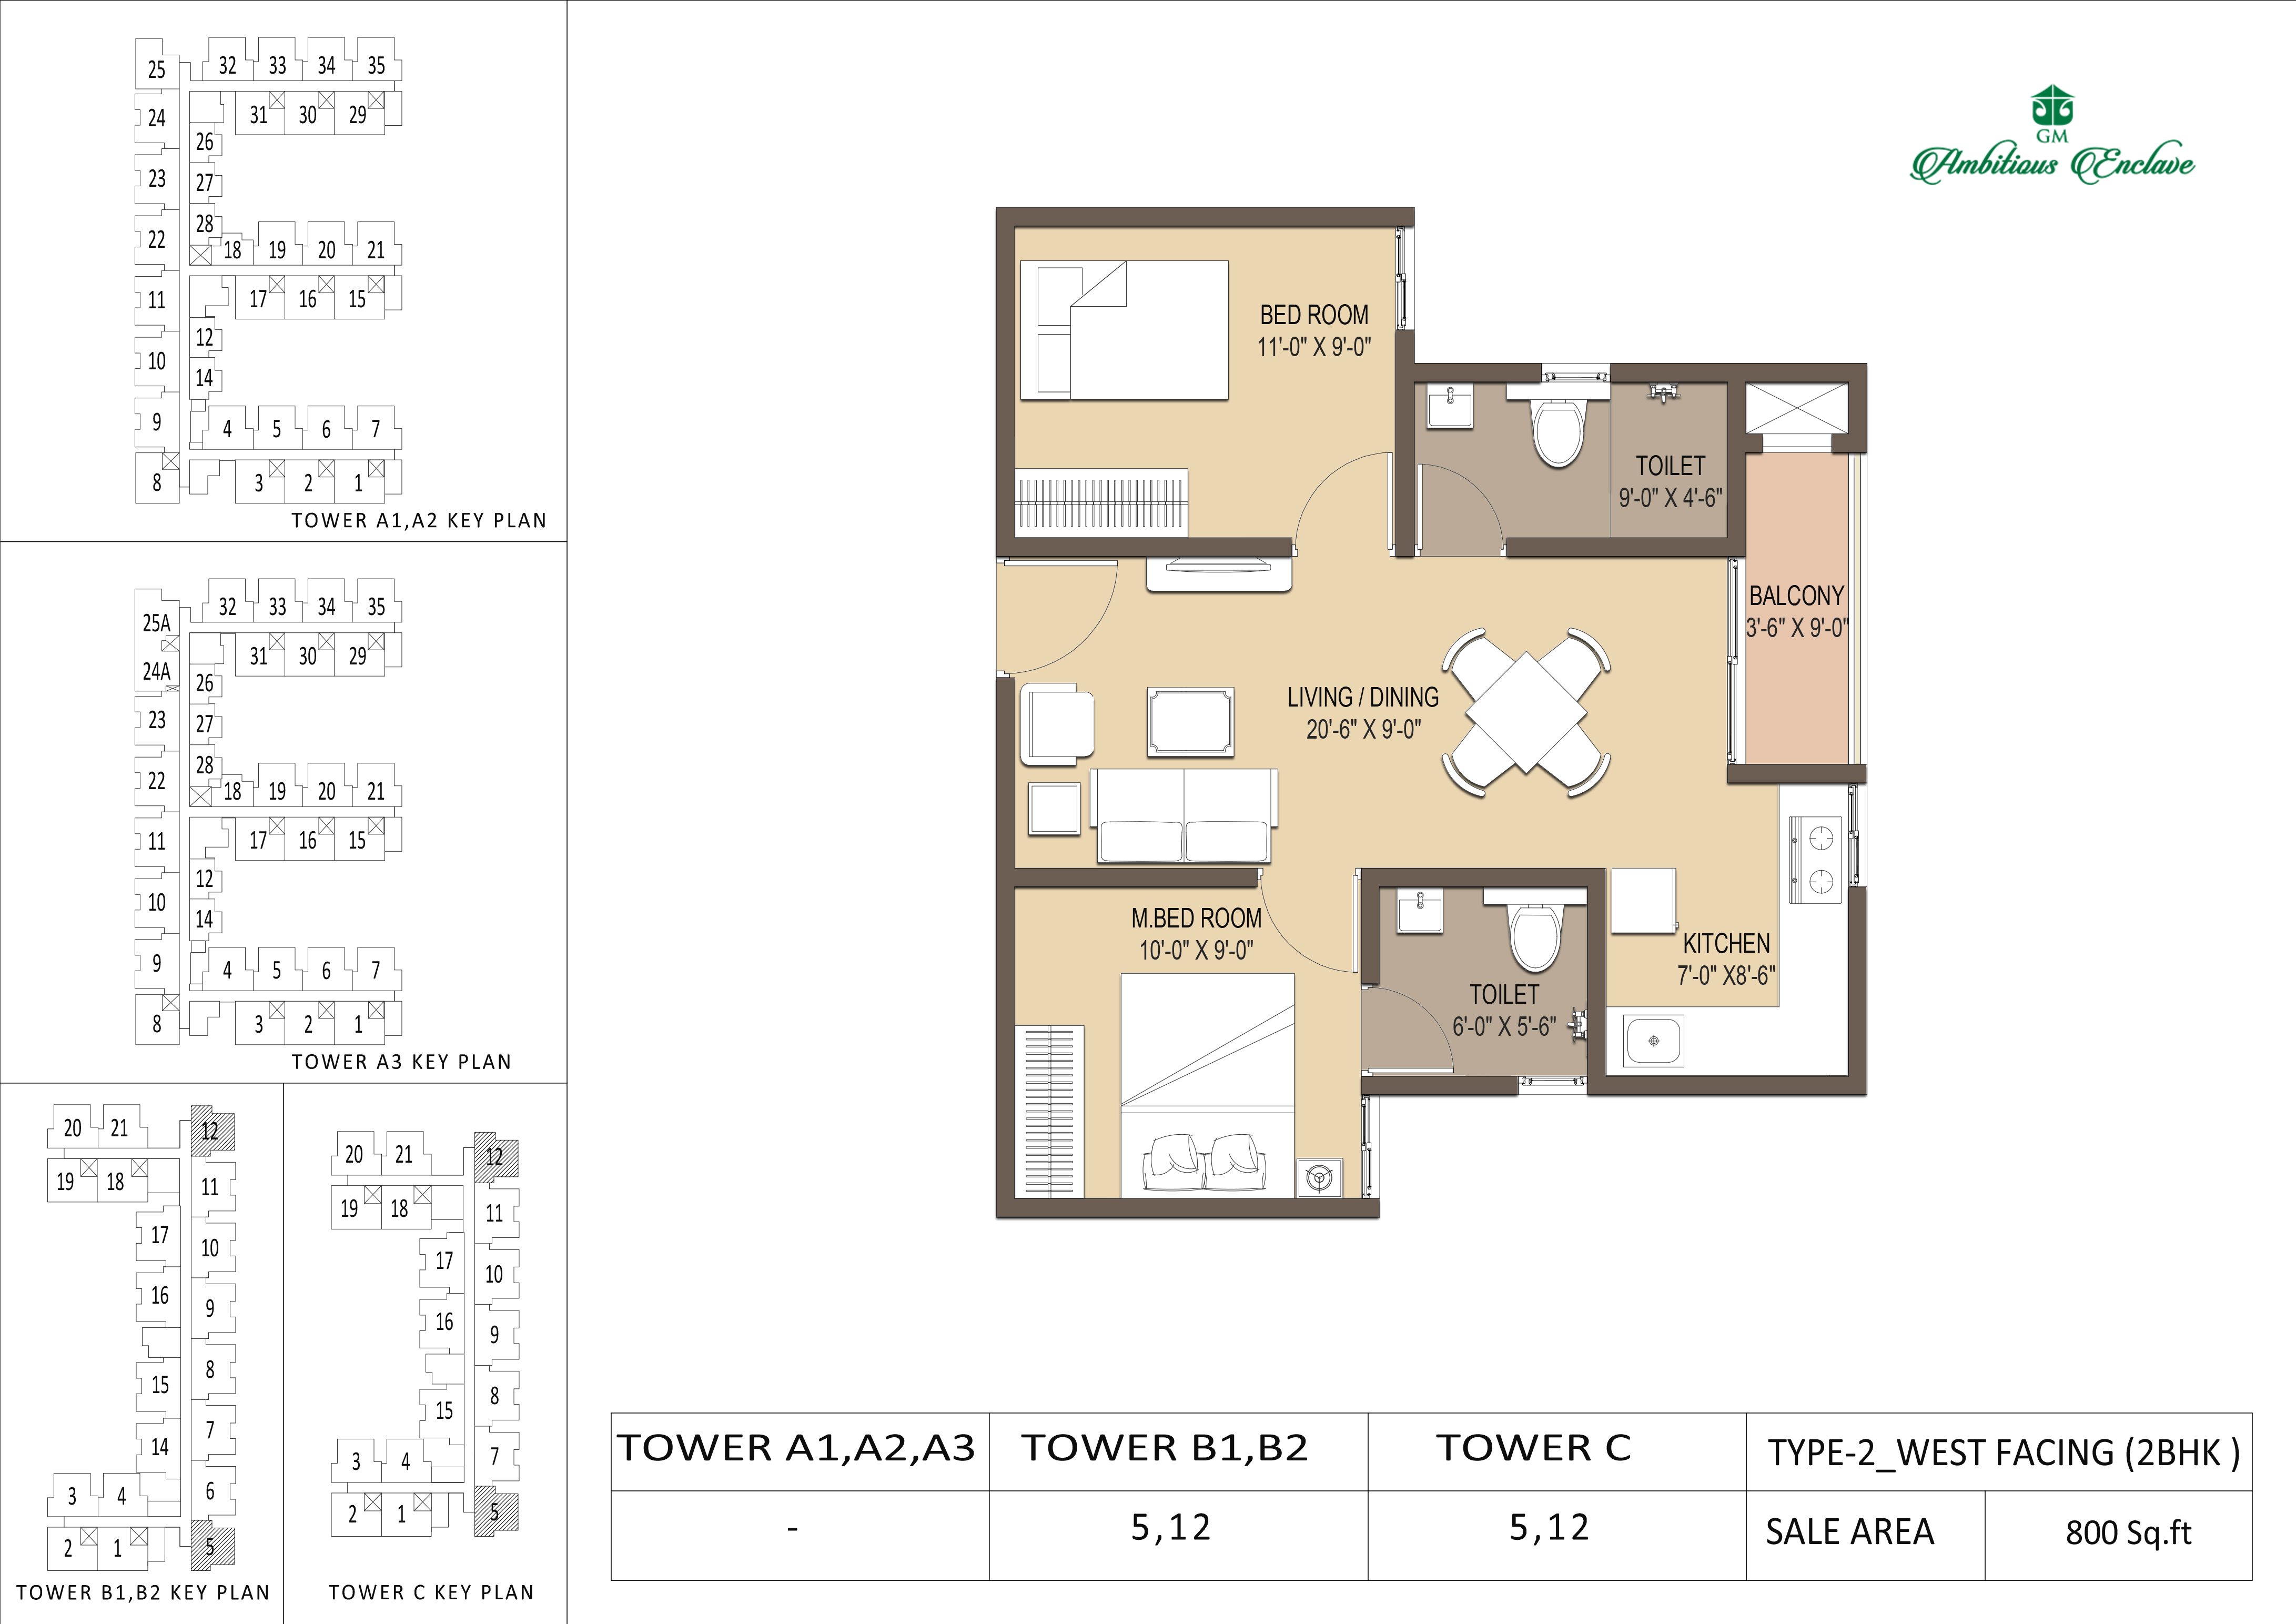window: (1723, 554, 1748, 766), (1393, 223, 1416, 332), (1539, 362, 1616, 383), (1516, 1076, 1590, 1095)
